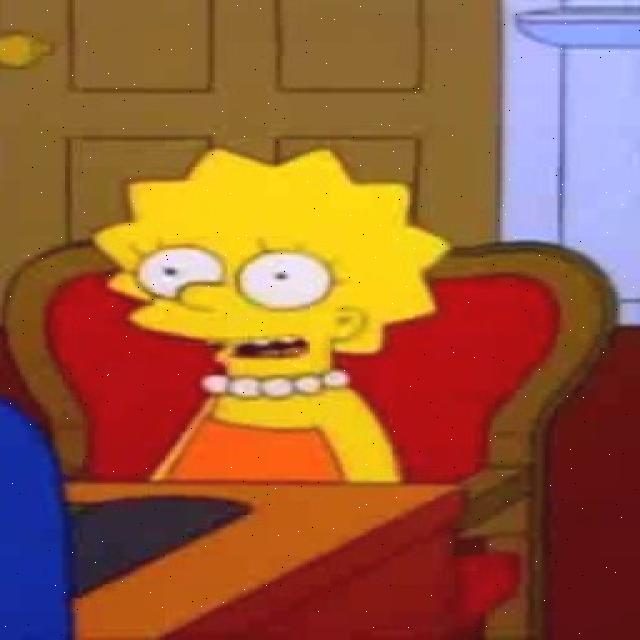Lisa Simpson: (85, 146, 450, 398)
